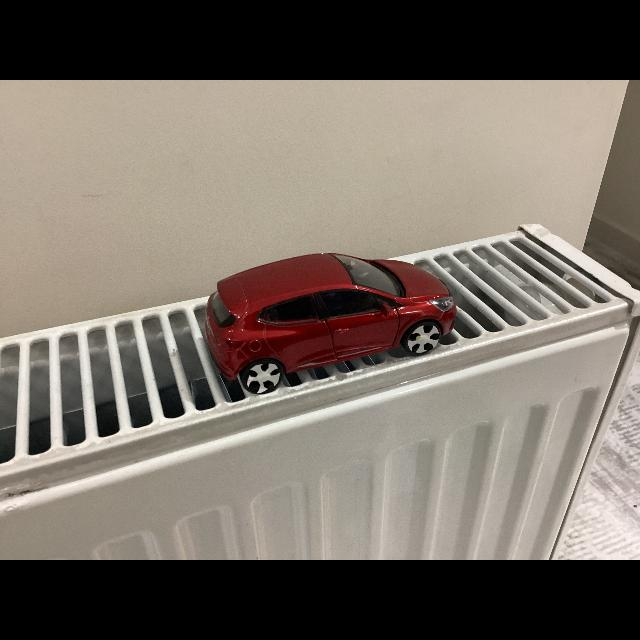Yanlis_Jant: (244, 362, 280, 393), (406, 323, 439, 353)
